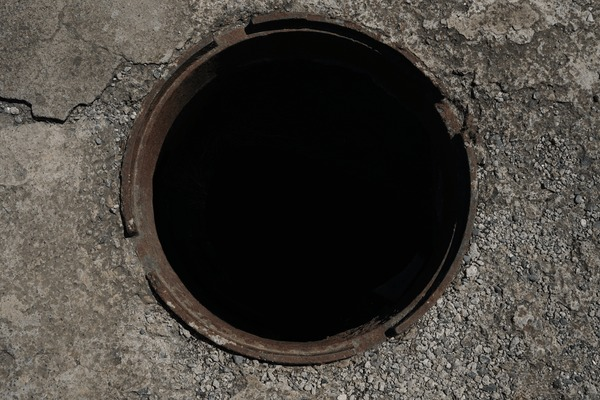open_manhole: (130, 24, 483, 353)
